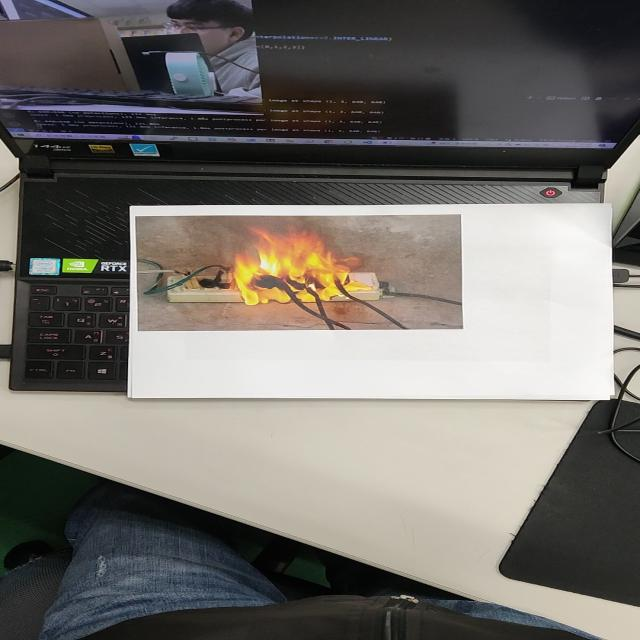person: (164, 0, 260, 92)
